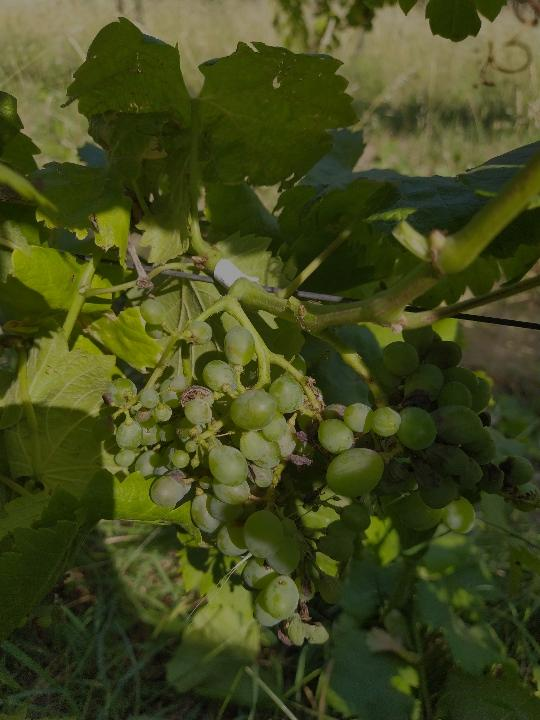grape: (99, 298, 533, 654)
